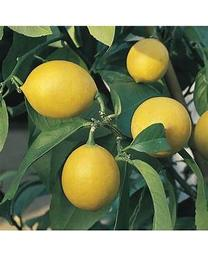lemon: (20, 59, 98, 119), (62, 143, 121, 210), (132, 97, 191, 156), (128, 40, 169, 84)
